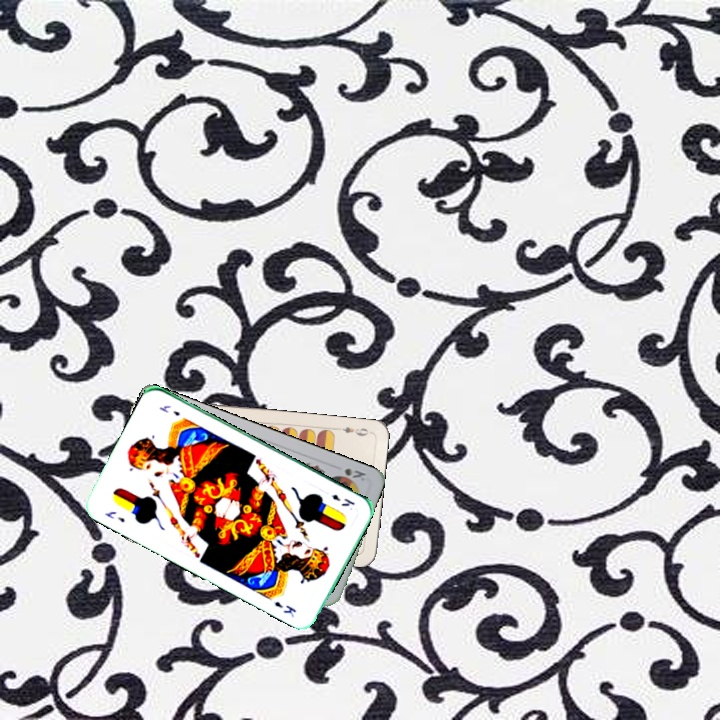E9: (333, 423, 373, 439)
EK: (328, 490, 357, 509), (101, 507, 128, 525)
SK: (340, 464, 368, 484)
